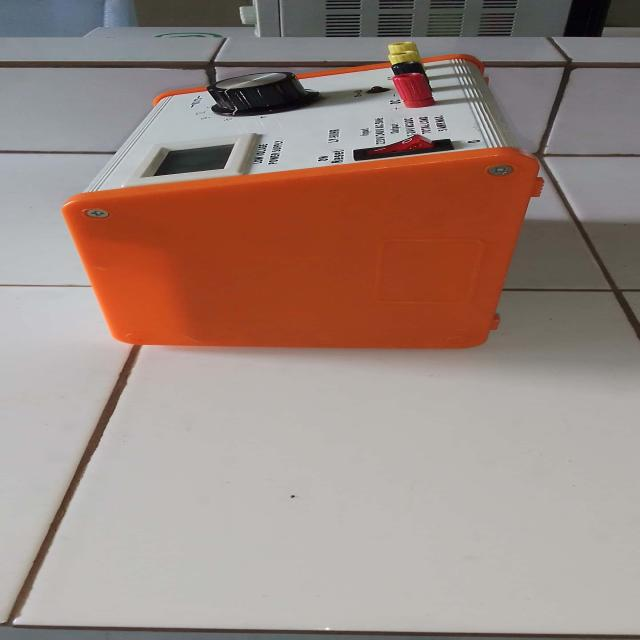Digital Power Supply: (51, 36, 558, 354)
